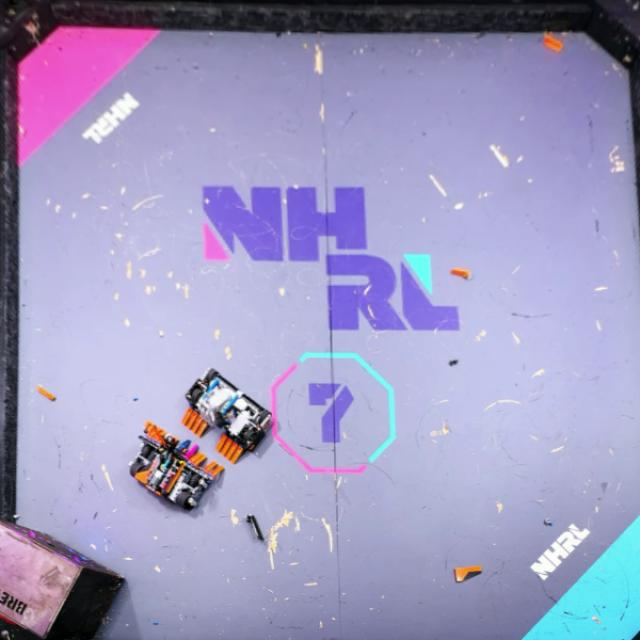housebot: (0, 517, 124, 639)
robot: (181, 366, 272, 464), (130, 422, 226, 512)
